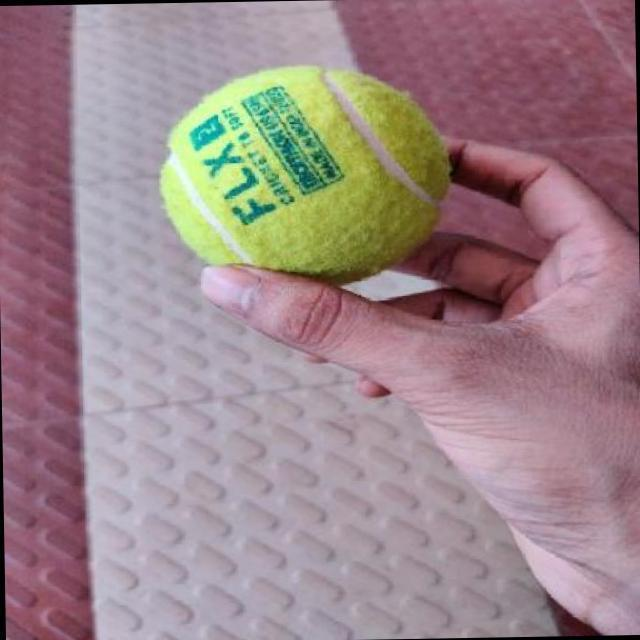-: (154, 49, 447, 290)
